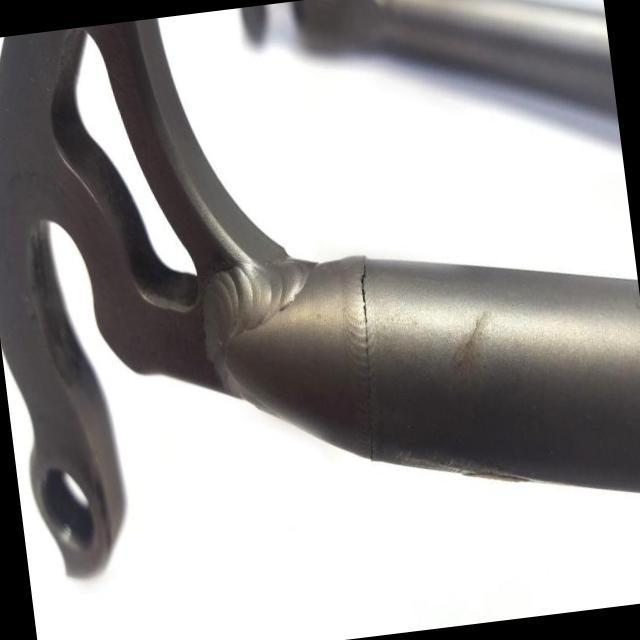defect: (360, 251, 373, 464)
